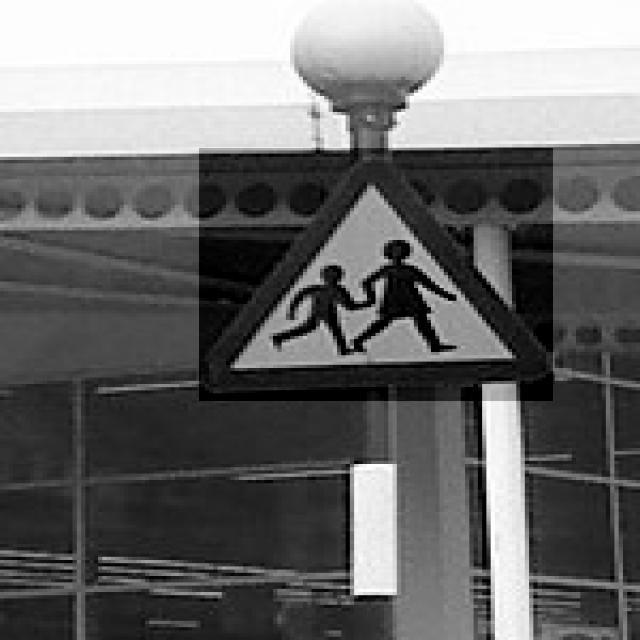school ahead: (208, 153, 546, 397)
